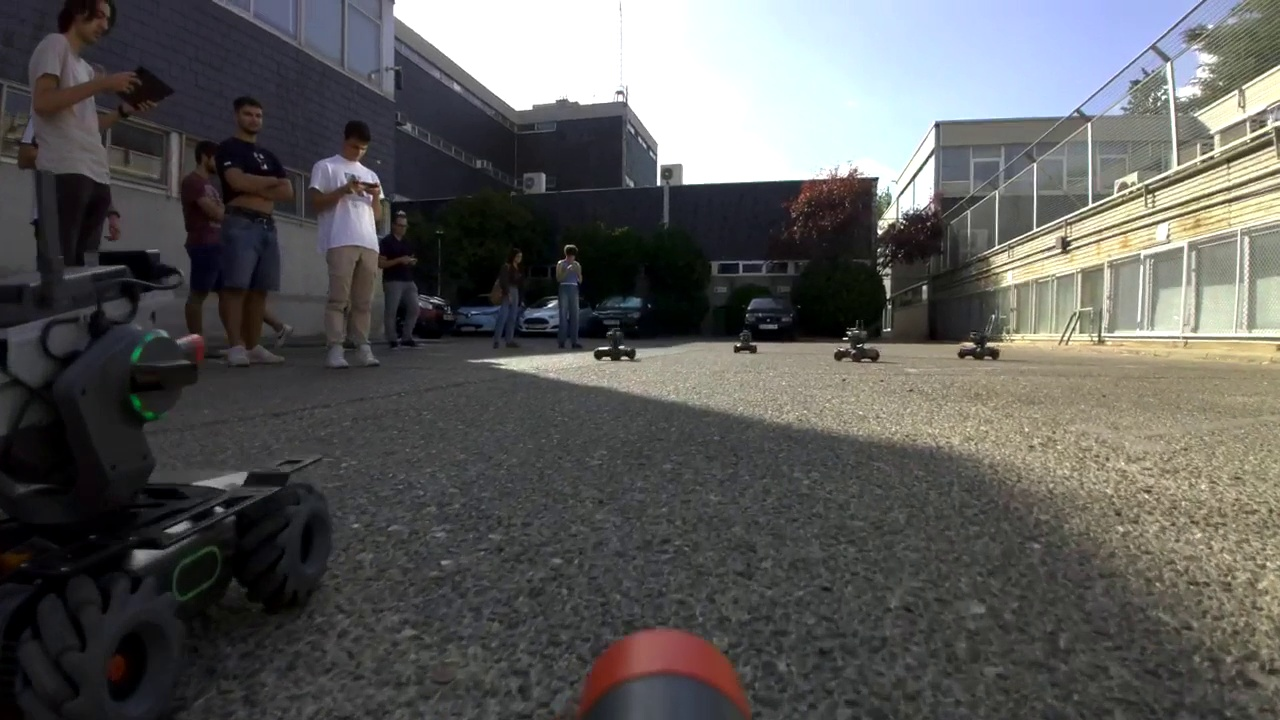robot: (4, 169, 333, 720), (833, 316, 882, 363), (594, 324, 638, 363), (957, 328, 1005, 360), (733, 324, 756, 357)
